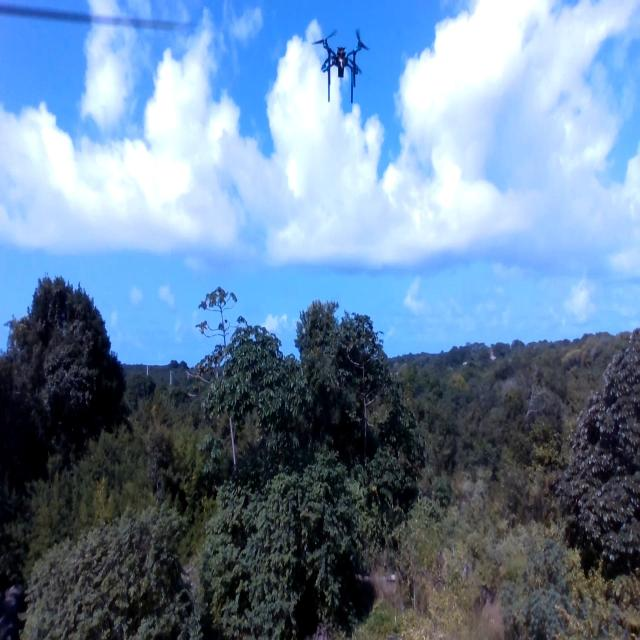-uav-: (305, 22, 379, 119)
